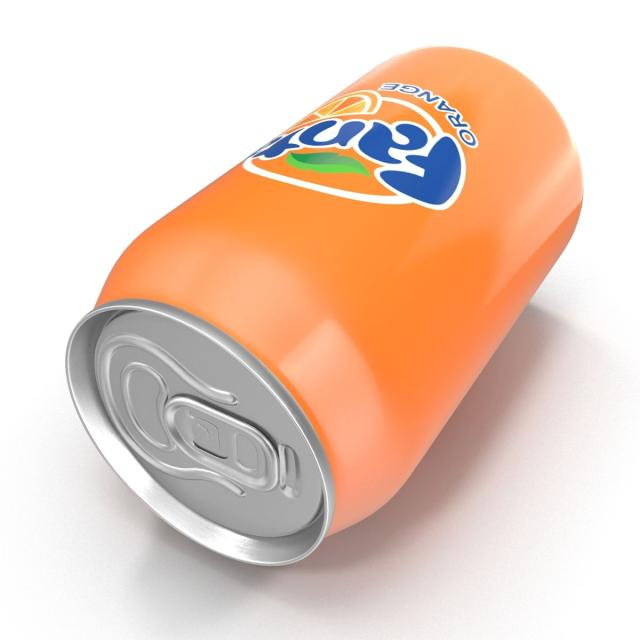fanta: (56, 38, 591, 575)
